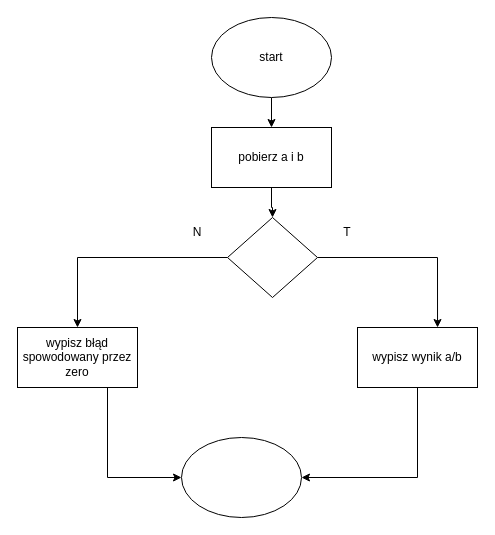
Image size: 495x535. Some labels were removed from this diagram. Each missing label, with the centre of its shape:
"b=0" belongs at (x=272, y=257).
"stop" belongs at (x=241, y=477).
